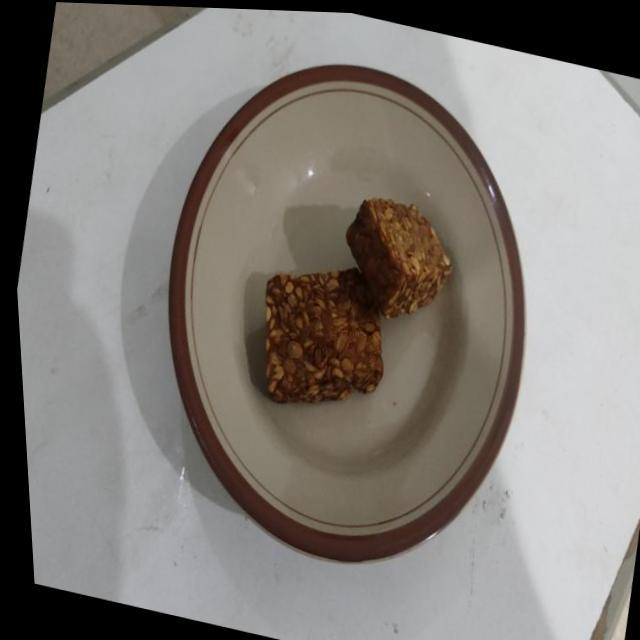tempe_goreng: (266, 268, 384, 403), (346, 198, 451, 318)
